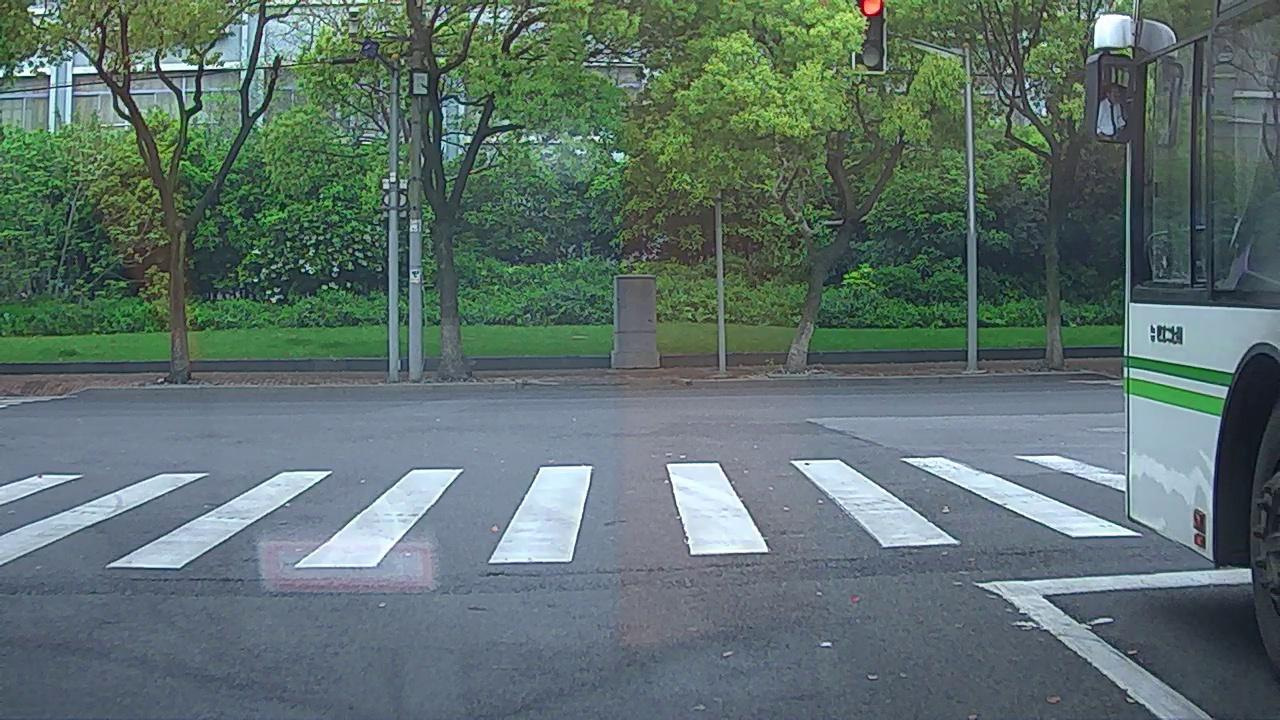traffic_light: (854, 1, 884, 69)
